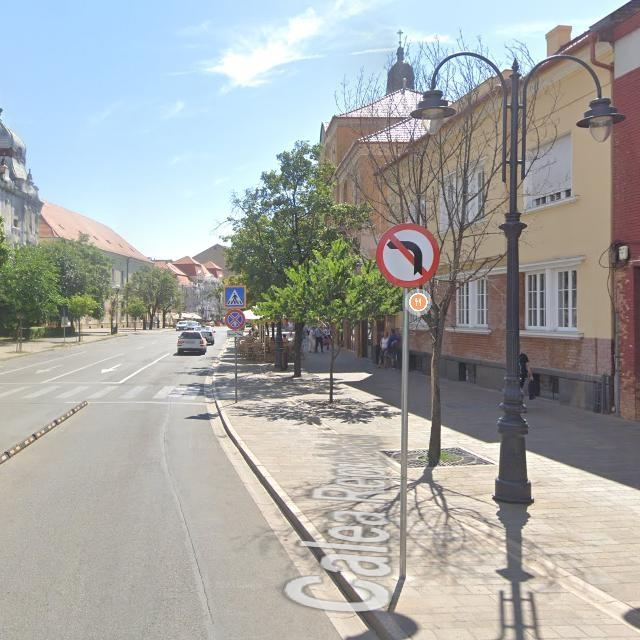forb_waiting: (226, 311, 245, 330)
info_crosswalk: (224, 285, 247, 310)
